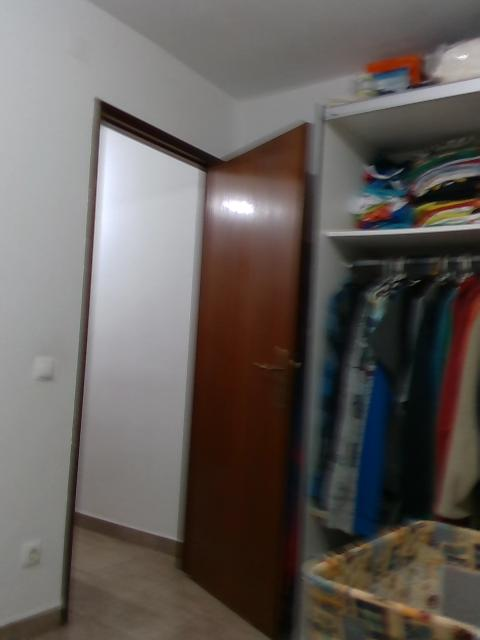open_door: (63, 96, 225, 624)
